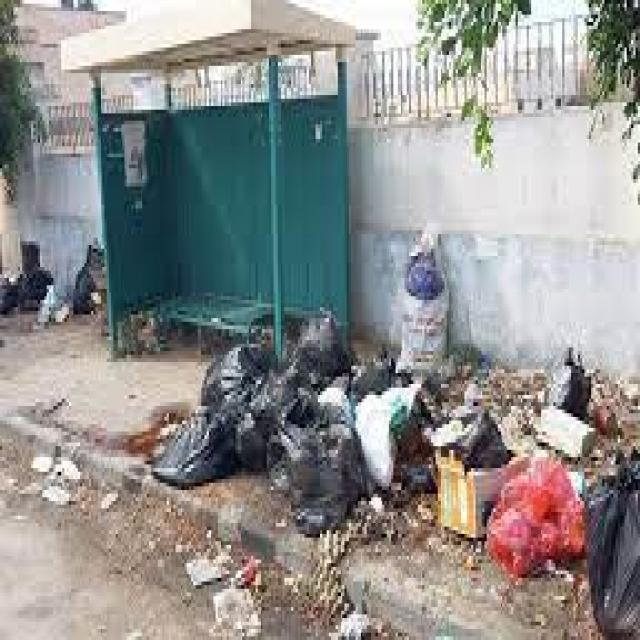high trash: (154, 321, 640, 639)
